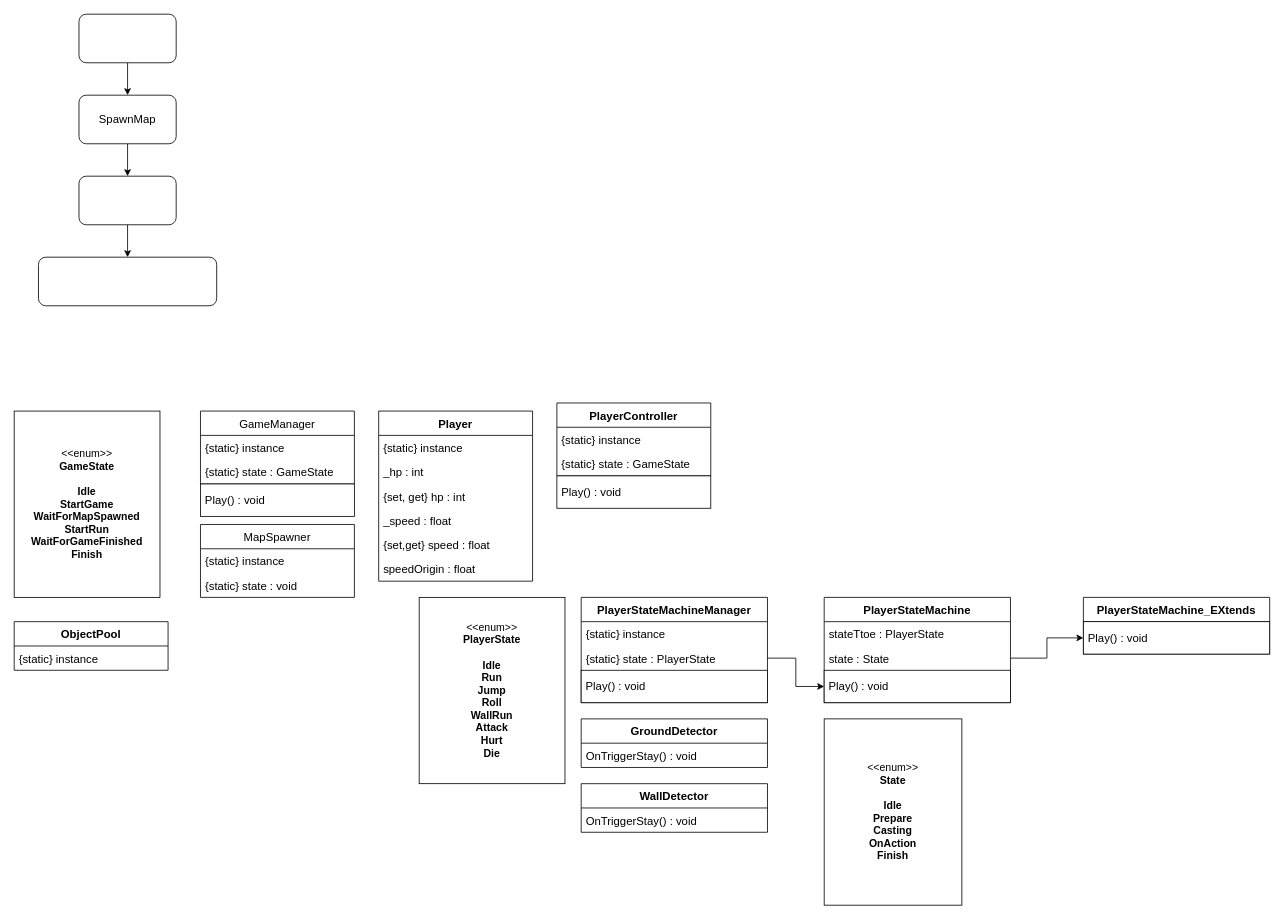
Image size: 1284x919. Some labels were removed from this diagram. The centre of each missing label's shape, as x and y in pixels:
"Start" goes at [127,38].
"WaitForGameFinish" goes at [127,281].
